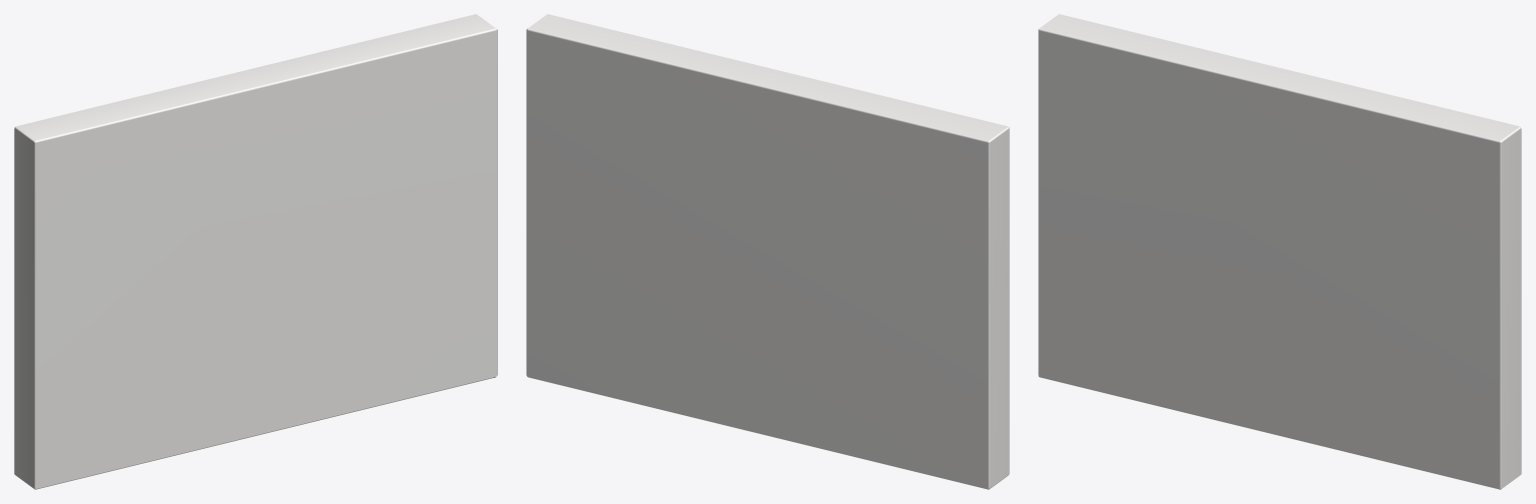
The model's file is Wall_13.glb.
3 renders of one model, left to right at view 1: azimuth 30°, elevation 25°; view 2: azimuth 150°, elevation 25°; view 3: azimuth 330°, elevation 25°, orthographic.
Visible parts, largest first — view 1: Wall_13; view 2: Wall_13; view 3: Wall_13.
Boxes of the visible parts, x1=… form: Wall_13: x1=14, y1=14, x2=497, y2=489; Wall_13: x1=526, y1=14, x2=1009, y2=489; Wall_13: x1=1038, y1=14, x2=1521, y2=489.
Size of the model in its own units: 5 by 3.6 by 0.4.
Materials: 1 (1 with a texture image).
